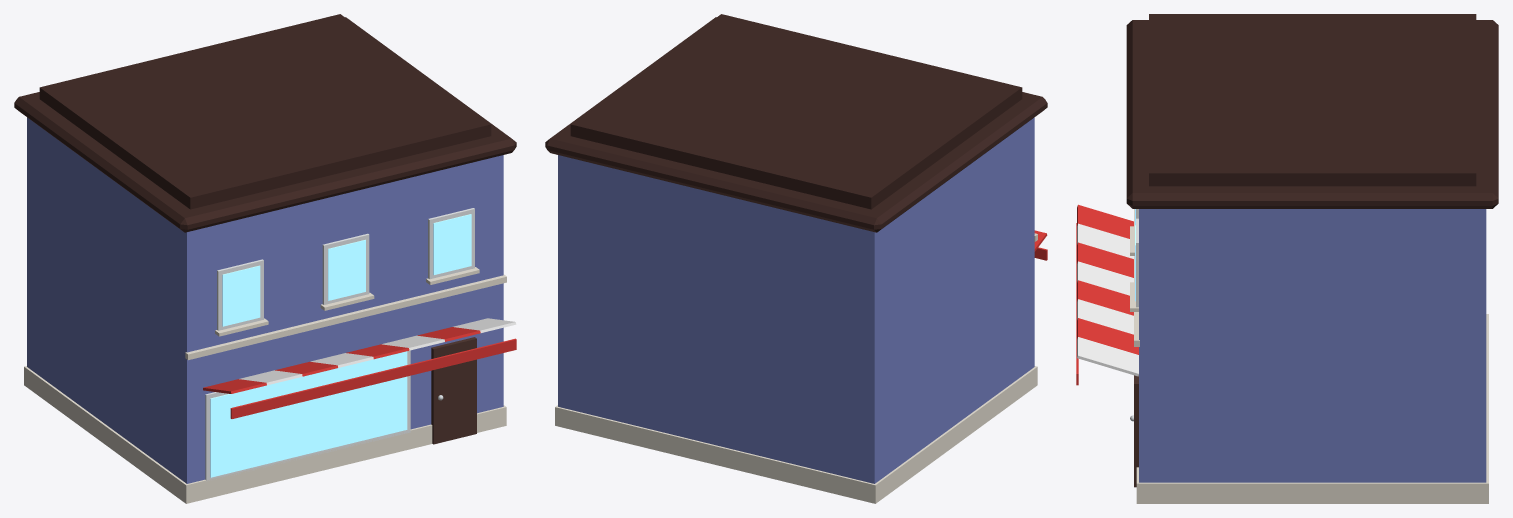
File: parking_bldg_b.glb
3 renders of one model, left to right at view 1: azimuth 30°, elevation 25°; view 2: azimuth 150°, elevation 25°; view 3: azimuth 270°, elevation 25°, orthographic. The views are drawn at different scales.
Visible parts, largest first — view 1: ParkingBldgB_body; view 2: ParkingBldgB_body; view 3: ParkingBldgB_body.
Boxes of the visible parts, <box> form: ParkingBldgB_body: <box>14,14,516,503</box>; ParkingBldgB_body: <box>545,14,1047,503</box>; ParkingBldgB_body: <box>1076,14,1498,503</box>.
Size of the model in its own units: 8.5 by 7.24 by 8.51.
